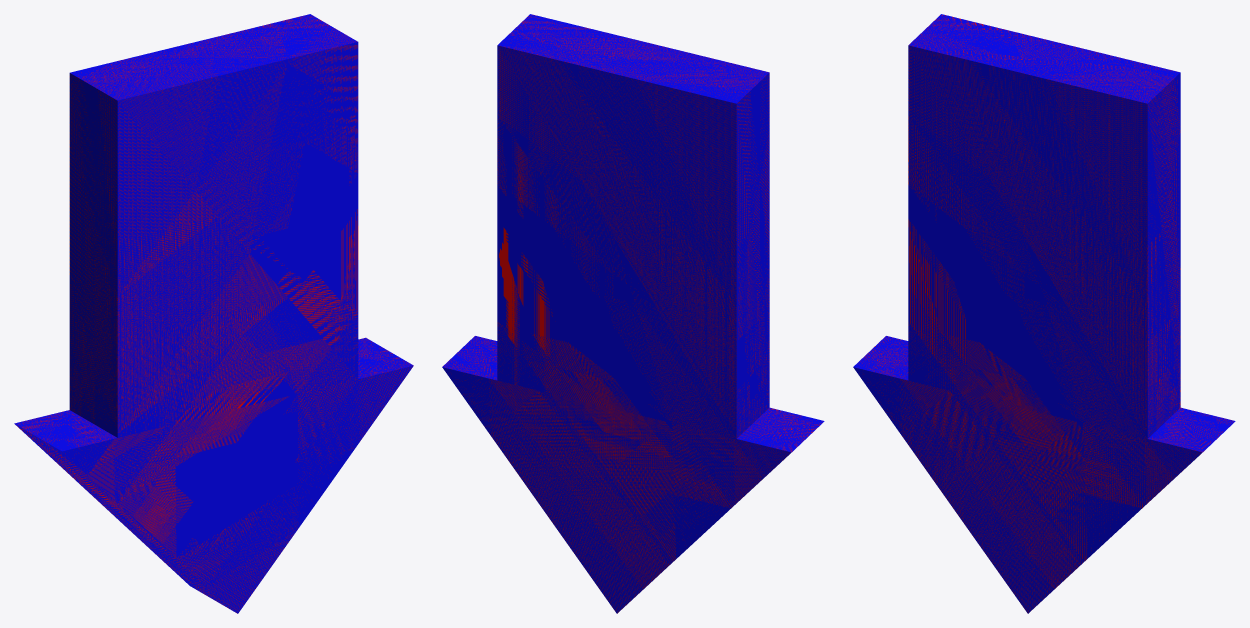
File: arrowblue.obj
3 renders of one model, left to right at view 1: azimuth 30°, elevation 25°; view 2: azimuth 150°, elevation 25°; view 3: azimuth 330°, elevation 25°, orthographic.
Parts seen in each view (by area): view 1: Mesh1 Model; view 2: Mesh1 Model; view 3: Mesh1 Model.
Boxes of the visible parts, x1,y1,x2,y2 form: Mesh1 Model: (14,14,413,613); Mesh1 Model: (442,14,824,613); Mesh1 Model: (853,14,1235,613).
Bounding box in the file's own units: 1.94 × 2.8 × 0.38.
